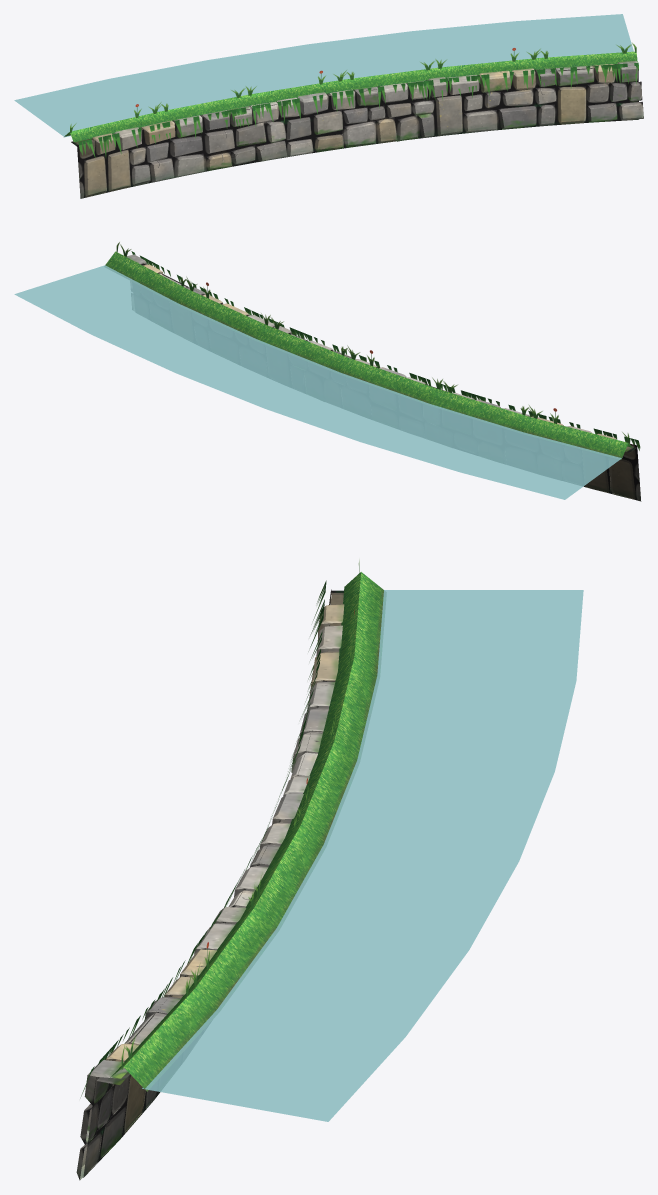
File: terrace_concave_flooded_mid_plain.glb
3 renders of one model, top to bottom at view 1: azimuth 30°, elevation 25°; view 2: azimuth 150°, elevation 25°; view 3: azimuth 270°, elevation 25°, orthographic. The views are drawn at different scales.
Parts seen in each view (by area): view 1: terrace_concave_flooded_mid_plain_wall, terrace_concave_flooded_mid_plain_water, terrace_concave_flooded_mid_plain_dike, terrace_concave_flooded_mid_plain_cards; view 2: terrace_concave_flooded_mid_plain_water, terrace_concave_flooded_mid_plain_dike, terrace_concave_flooded_mid_plain_wall, terrace_concave_flooded_mid_plain_cards; view 3: terrace_concave_flooded_mid_plain_water, terrace_concave_flooded_mid_plain_dike, terrace_concave_flooded_mid_plain_wall, terrace_concave_flooded_mid_plain_cards.
Part boxes in pixels (<box>): terrace_concave_flooded_mid_plain_wall: <box>71,60,643,198</box>; terrace_concave_flooded_mid_plain_water: <box>14,14,633,137</box>; terrace_concave_flooded_mid_plain_dike: <box>64,51,637,142</box>; terrace_concave_flooded_mid_plain_cards: <box>70,43,638,157</box>; terrace_concave_flooded_mid_plain_water: <box>14,265,622,499</box>; terrace_concave_flooded_mid_plain_dike: <box>105,251,632,459</box>; terrace_concave_flooded_mid_plain_wall: <box>126,254,641,501</box>; terrace_concave_flooded_mid_plain_cards: <box>116,242,640,450</box>; terrace_concave_flooded_mid_plain_water: <box>142,590,583,1121</box>; terrace_concave_flooded_mid_plain_dike: <box>109,572,385,1091</box>; terrace_concave_flooded_mid_plain_wall: <box>76,589,344,1180</box>; terrace_concave_flooded_mid_plain_cards: <box>80,560,359,1098</box>.
Size of the model in its own units: 12.73 by 1.79 by 5.15.
Materials: 4 (3 with a texture image).
